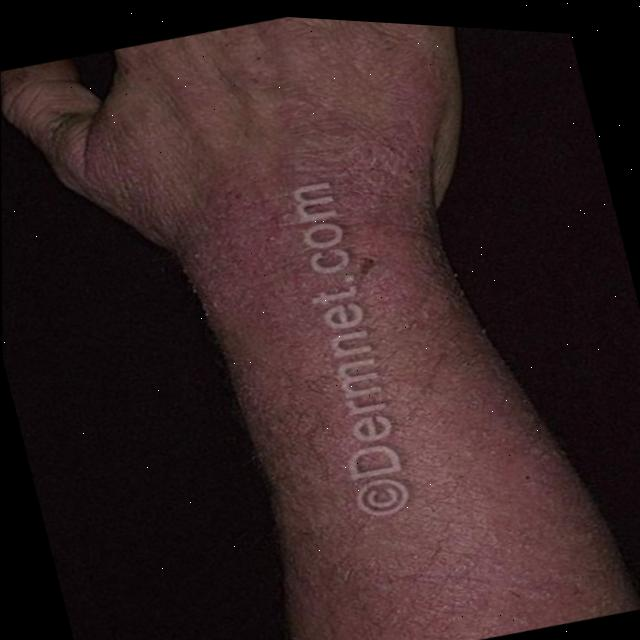Eczema: (155, 9, 575, 640)
